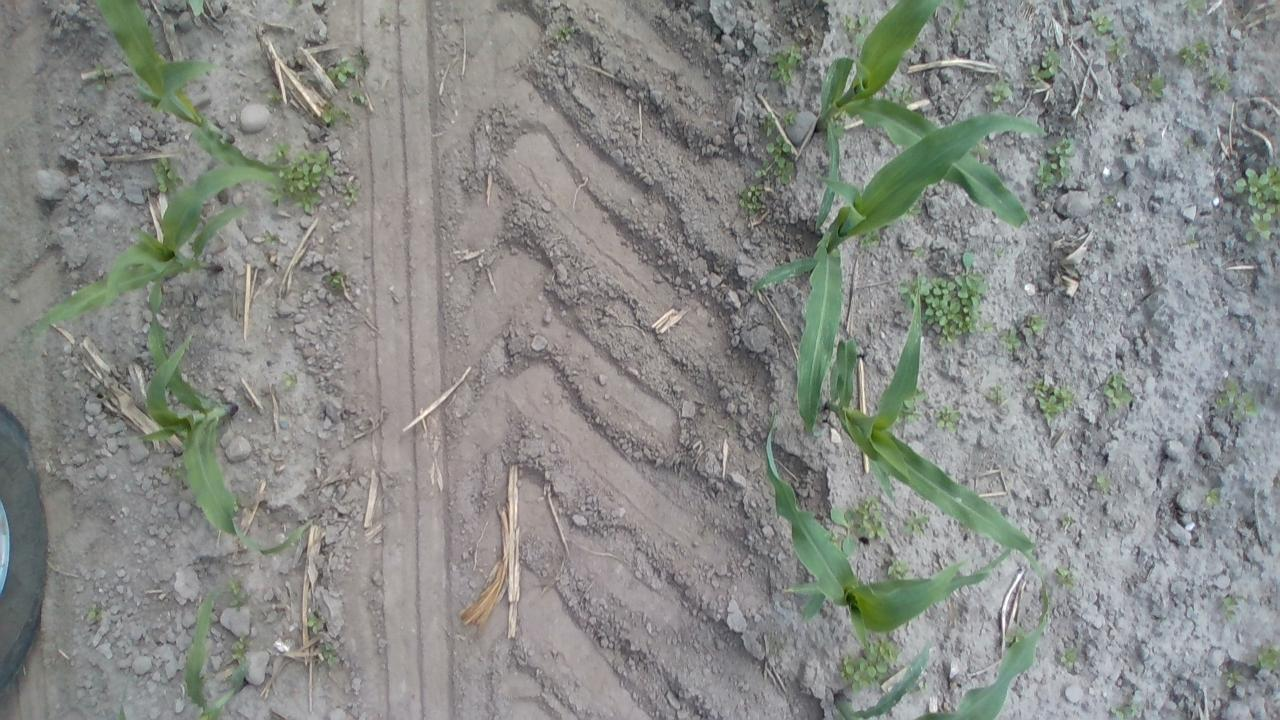Maize: (746, 113, 1054, 435), (808, 276, 1062, 602), (752, 414, 1026, 646), (16, 156, 308, 362), (802, 0, 1036, 241), (124, 299, 323, 561), (810, 593, 1066, 720), (94, 0, 276, 173), (180, 583, 260, 720)
Weeds: (898, 248, 984, 350), (828, 491, 892, 553), (1234, 166, 1280, 241), (836, 640, 902, 688), (290, 146, 337, 211), (1034, 136, 1076, 198), (755, 138, 795, 188), (1212, 381, 1258, 423), (1034, 381, 1076, 423), (894, 385, 932, 430), (318, 54, 361, 87), (1100, 374, 1134, 412), (148, 160, 185, 194), (767, 48, 799, 85), (881, 82, 920, 112), (1175, 35, 1210, 67), (1136, 72, 1170, 104), (267, 144, 302, 173), (1215, 595, 1245, 627), (899, 512, 930, 542), (222, 578, 249, 612), (982, 80, 1013, 109), (944, 3, 970, 37), (736, 182, 762, 216), (228, 636, 254, 669), (316, 103, 350, 128), (1197, 485, 1229, 511), (1039, 48, 1063, 82), (932, 405, 962, 432), (763, 112, 797, 135), (992, 330, 1022, 356), (318, 267, 348, 293), (1021, 312, 1050, 338), (1084, 11, 1114, 36), (319, 640, 342, 672), (90, 62, 114, 92), (1056, 647, 1082, 674), (886, 558, 914, 582), (1256, 642, 1280, 670), (256, 228, 284, 252), (1205, 68, 1230, 94), (841, 18, 866, 44), (550, 24, 580, 45), (302, 611, 328, 635), (1174, 0, 1208, 18), (1110, 700, 1140, 720), (1052, 563, 1076, 588), (262, 186, 296, 203), (1102, 33, 1126, 56), (1102, 188, 1124, 212), (344, 84, 368, 106), (1224, 667, 1248, 688), (278, 367, 298, 391), (344, 179, 362, 205), (1057, 511, 1077, 534), (1024, 64, 1042, 88), (84, 604, 104, 625), (1092, 472, 1110, 494), (264, 87, 282, 105), (986, 384, 1005, 401), (1183, 228, 1198, 249), (913, 248, 930, 259)
